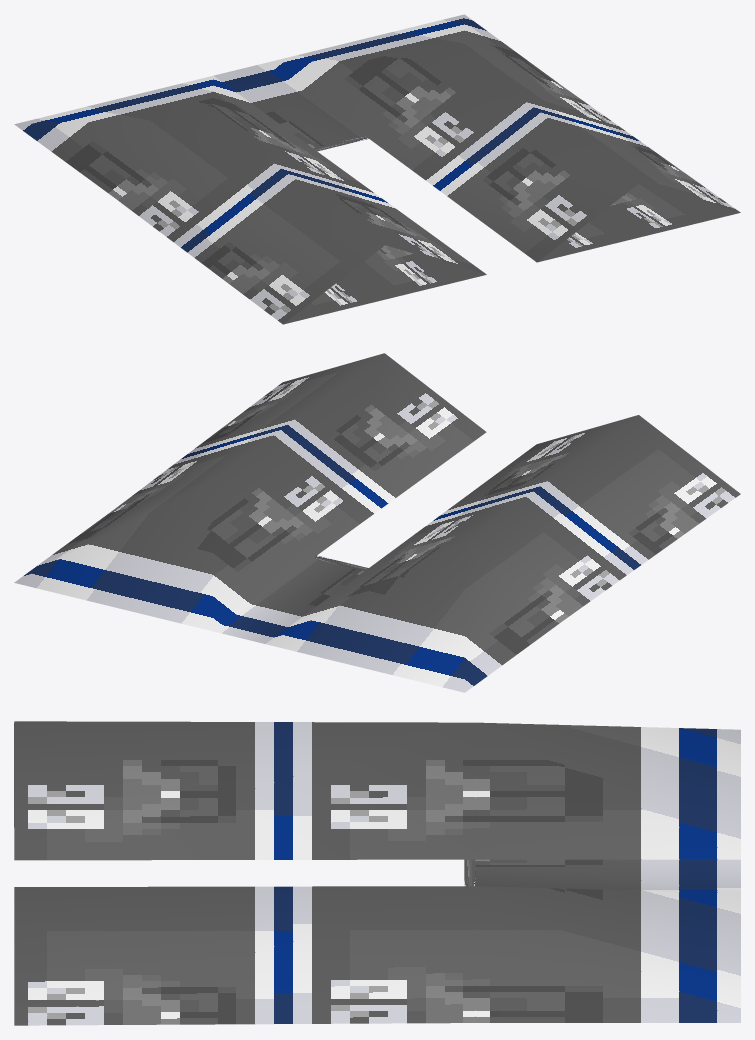
The model's file is 2158pants000_c.gltf.
The picture shows the model from 3 angles, top to bottom: view 1: azimuth 30°, elevation 25°; view 2: azimuth 150°, elevation 25°; view 3: azimuth 270°, elevation 25°; orthographic projection. The views are drawn at different scales.
Visible parts, largest first — view 1: 2158pants000_c; view 2: 2158pants000_c; view 3: 2158pants000_c.
Boxes of the visible parts, x1,y1,x2,y2 form: 2158pants000_c: (14, 14, 740, 324); 2158pants000_c: (14, 353, 740, 692); 2158pants000_c: (14, 721, 740, 1025).
Bounding box in the file's own units: 0.7793 × 0.0884 × 0.803.
Materials: 1 (1 with a texture image).
